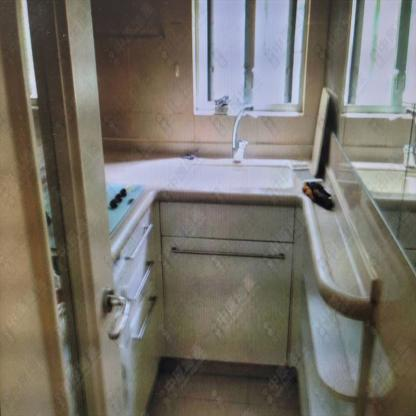Cupboard: (110, 205, 300, 415)
Faucet: (230, 102, 257, 166)
Sink: (171, 161, 290, 190)
Stove: (104, 181, 145, 238)
